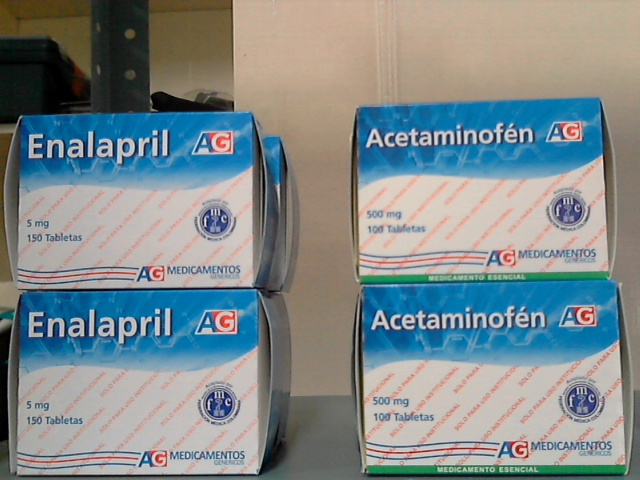AG: (365, 286, 626, 475), (360, 102, 609, 278), (20, 294, 257, 473), (21, 115, 252, 286)
